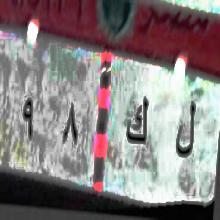8: (59, 97, 81, 155)
9: (14, 96, 47, 146)
kaaf: (119, 89, 153, 158)
laam: (170, 93, 200, 169)
